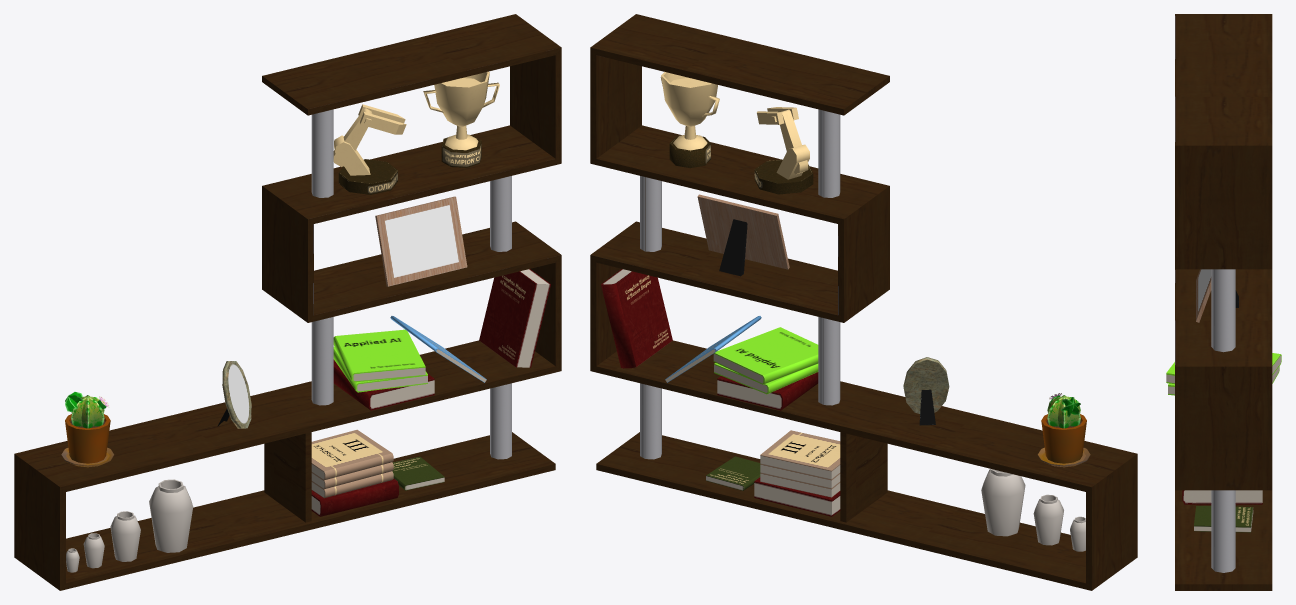
Rendered from Mdl.Bookshelf.fbx.
The picture shows the model from 3 angles, left to right: view 1: azimuth 30°, elevation 25°; view 2: azimuth 150°, elevation 25°; view 3: azimuth 270°, elevation 25°; orthographic projection. The views are drawn at different scales.
Visible parts, largest first — view 1: Mesh.Bookshelf, Mesh.VeraxFamilyPhoto, Mesh.Book.6, Mesh.Vases, Mesh.Book.Triple, Mesh.Book.2, Mesh.TrophyCup, Mesh.TrophyManipulator, Mesh.Cactus, Mesh.Book.0, Mesh.Book.4, Mesh.TableMirror (+3 smaller); view 2: Mesh.Bookshelf, Mesh.Book.6, Mesh.VeraxFamilyPhoto, Mesh.Book.Triple, Mesh.Vases, Mesh.Book.2, Mesh.TrophyCup, Mesh.TrophyManipulator, Mesh.Cactus, Mesh.TableMirror, Mesh.Book.0, Mesh.Book.4 (+3 smaller); view 3: Mesh.Bookshelf, Mesh.Book.5, Mesh.Book.4, Mesh.VeraxFamilyPhoto, Mesh.Book.2.
Part boxes in pixels (x1=…): Mesh.Bookshelf: x1=14, y1=14, x2=561, y2=590; Mesh.VeraxFamilyPhoto: x1=375, y1=196, x2=467, y2=286; Mesh.Book.6: x1=479, y1=269, x2=550, y2=367; Mesh.Vases: x1=66, y1=479, x2=193, y2=572; Mesh.Book.Triple: x1=311, y1=429, x2=393, y2=498; Mesh.Book.2: x1=333, y1=329, x2=425, y2=382; Mesh.TrophyCup: x1=423, y1=71, x2=499, y2=167; Mesh.TrophyManipulator: x1=333, y1=104, x2=406, y2=194; Mesh.Cactus: x1=61, y1=392, x2=114, y2=467; Mesh.Book.0: x1=333, y1=359, x2=434, y2=410; Mesh.Book.4: x1=311, y1=478, x2=398, y2=516; Mesh.TableMirror: x1=217, y1=361, x2=251, y2=428; Mesh.Bookshelf: x1=590, y1=14, x2=1137, y2=590; Mesh.Book.6: x1=601, y1=269, x2=672, y2=368; Mesh.VeraxFamilyPhoto: x1=697, y1=194, x2=789, y2=276; Mesh.Book.Triple: x1=760, y1=430, x2=840, y2=497; Mesh.Vases: x1=981, y1=469, x2=1085, y2=551; Mesh.Book.2: x1=713, y1=327, x2=818, y2=384; Mesh.TrophyCup: x1=660, y1=72, x2=719, y2=168; Mesh.TrophyManipulator: x1=754, y1=107, x2=813, y2=194; Mesh.Cactus: x1=1037, y1=393, x2=1090, y2=467; Mesh.TableMirror: x1=903, y1=357, x2=949, y2=425; Mesh.Book.0: x1=717, y1=372, x2=818, y2=410; Mesh.Book.4: x1=754, y1=477, x2=840, y2=516; Mesh.Bookshelf: x1=1175, y1=14, x2=1272, y2=590; Mesh.Book.5: x1=1194, y1=506, x2=1253, y2=532; Mesh.Book.4: x1=1182, y1=490, x2=1262, y2=504; Mesh.VeraxFamilyPhoto: x1=1196, y1=269, x2=1238, y2=322; Mesh.Book.2: x1=1166, y1=353, x2=1281, y2=384.
Bounding box in the file's own units: 2.53 × 2.03 × 0.4742.
